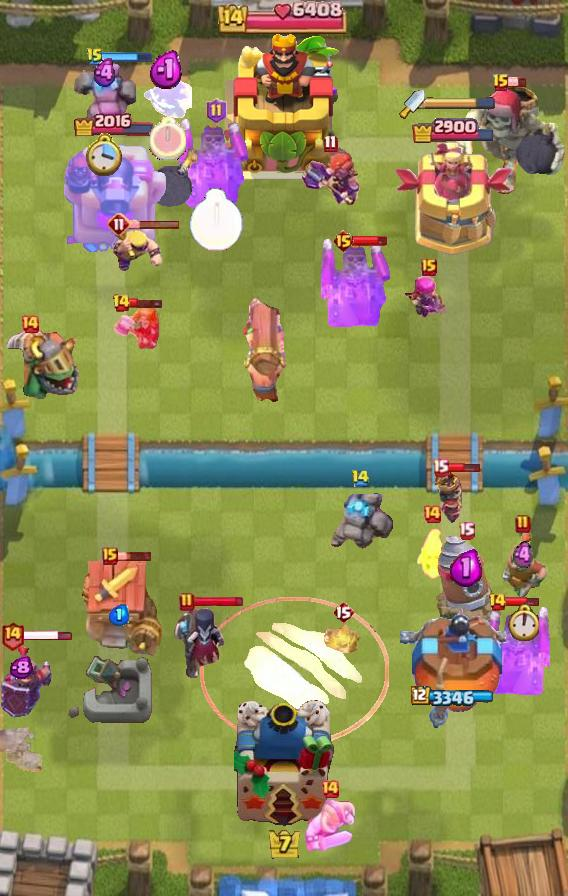arrows: (110, 222, 164, 275)
baby-dragon: (146, 147, 198, 209)
bar: (395, 142, 514, 256)
bat-evolution: (414, 527, 450, 581)
battle-healer: (240, 290, 288, 404)
bomber-evolution: (433, 465, 469, 527)
clock: (217, 0, 351, 34)
earthquake: (498, 530, 548, 602)
electro-giant: (452, 83, 568, 197)
electro-spirit: (149, 50, 185, 90), (450, 549, 482, 587), (92, 58, 121, 88), (513, 541, 533, 572), (9, 656, 33, 680), (110, 604, 131, 626)
elixir: (189, 188, 244, 252), (87, 132, 126, 176), (150, 117, 187, 160), (507, 603, 539, 641)
elixir-golem-big: (0, 641, 56, 727)
emote: (19, 629, 74, 642), (193, 595, 244, 609), (101, 51, 153, 63), (129, 218, 181, 230), (504, 595, 540, 609), (115, 550, 152, 562), (352, 235, 388, 247), (128, 297, 164, 309), (446, 462, 481, 474), (509, 77, 528, 88)
evolution-symbol: (404, 272, 454, 322)
fisherman: (0, 726, 44, 774)
goblin-giant: (303, 796, 357, 852)
hog-rider: (112, 305, 160, 351)
ice-spirit-evolution: (322, 621, 364, 657)
ice-wizard: (200, 597, 389, 747)
king-tower: (222, 31, 346, 181), (234, 700, 334, 826)
king-tower-bar: (425, 97, 495, 111)
magic-archer: (436, 533, 496, 627)
night-witch: (0, 329, 82, 401)
queen-tower: (400, 603, 506, 731)
rascal-boy: (172, 606, 230, 678)
selected: (412, 116, 497, 143), (72, 110, 155, 136), (412, 686, 497, 708)
skeleton-king-bar: (179, 119, 253, 207), (321, 239, 395, 327), (476, 607, 550, 695)
sparky: (76, 560, 162, 658)
spear-goblin: (142, 78, 192, 120)
tesla-evolution: (300, 150, 360, 208)
text: (0, 620, 24, 651), (107, 212, 131, 236), (333, 229, 356, 253), (206, 98, 227, 124), (332, 600, 354, 624), (20, 314, 40, 334), (422, 504, 442, 524), (320, 779, 340, 799), (113, 293, 132, 313), (489, 592, 508, 612), (86, 47, 104, 67), (492, 73, 510, 93), (431, 458, 449, 477), (351, 469, 370, 487), (515, 514, 531, 534), (179, 592, 195, 612), (458, 521, 475, 539), (421, 258, 437, 276), (102, 547, 118, 565), (323, 134, 337, 153)
tower-bar: (60, 138, 168, 256)
valkyrie-evolution: (74, 56, 136, 132), (327, 493, 393, 555)
